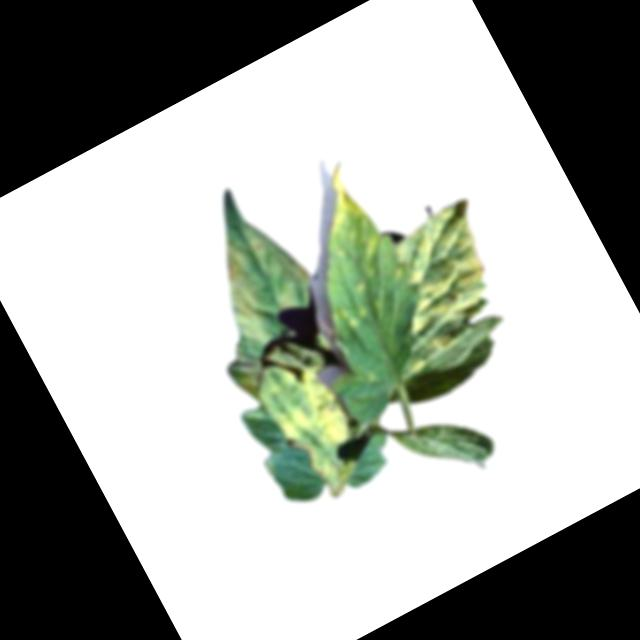Leaf_Mold: (365, 198, 525, 362), (197, 213, 329, 354), (257, 355, 375, 499), (294, 159, 387, 268)
